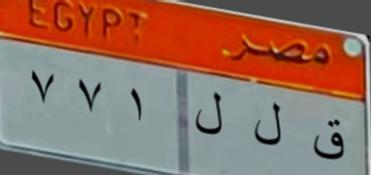1: (122, 82, 149, 127)
7: (74, 74, 108, 121), (30, 64, 58, 110)
laam: (249, 97, 286, 157), (194, 86, 225, 144)
qaaf: (311, 112, 349, 170)
